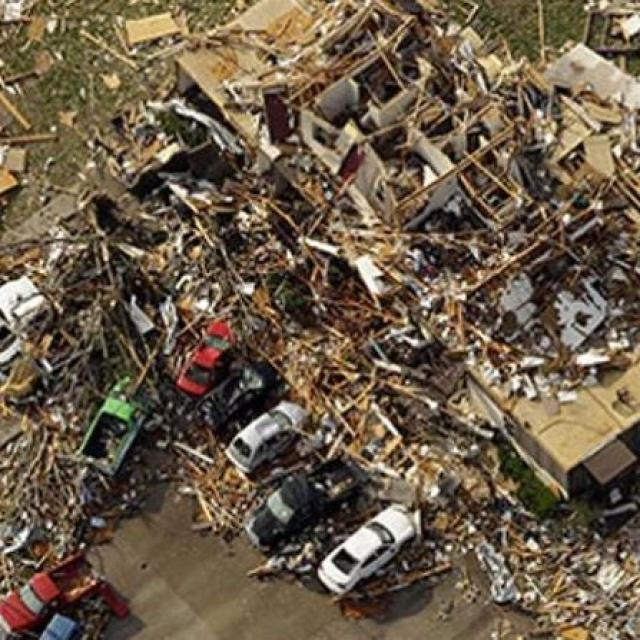collapsed_building: (21, 63, 630, 519)
